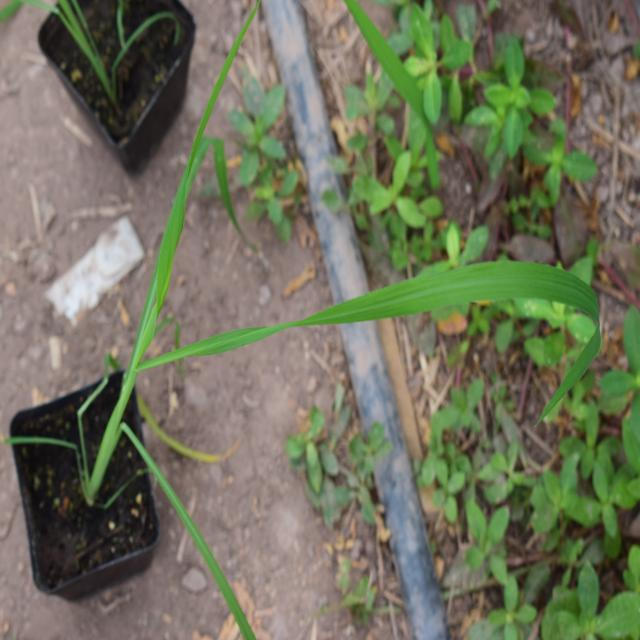barnyard_grass: (94, 57, 567, 556)
